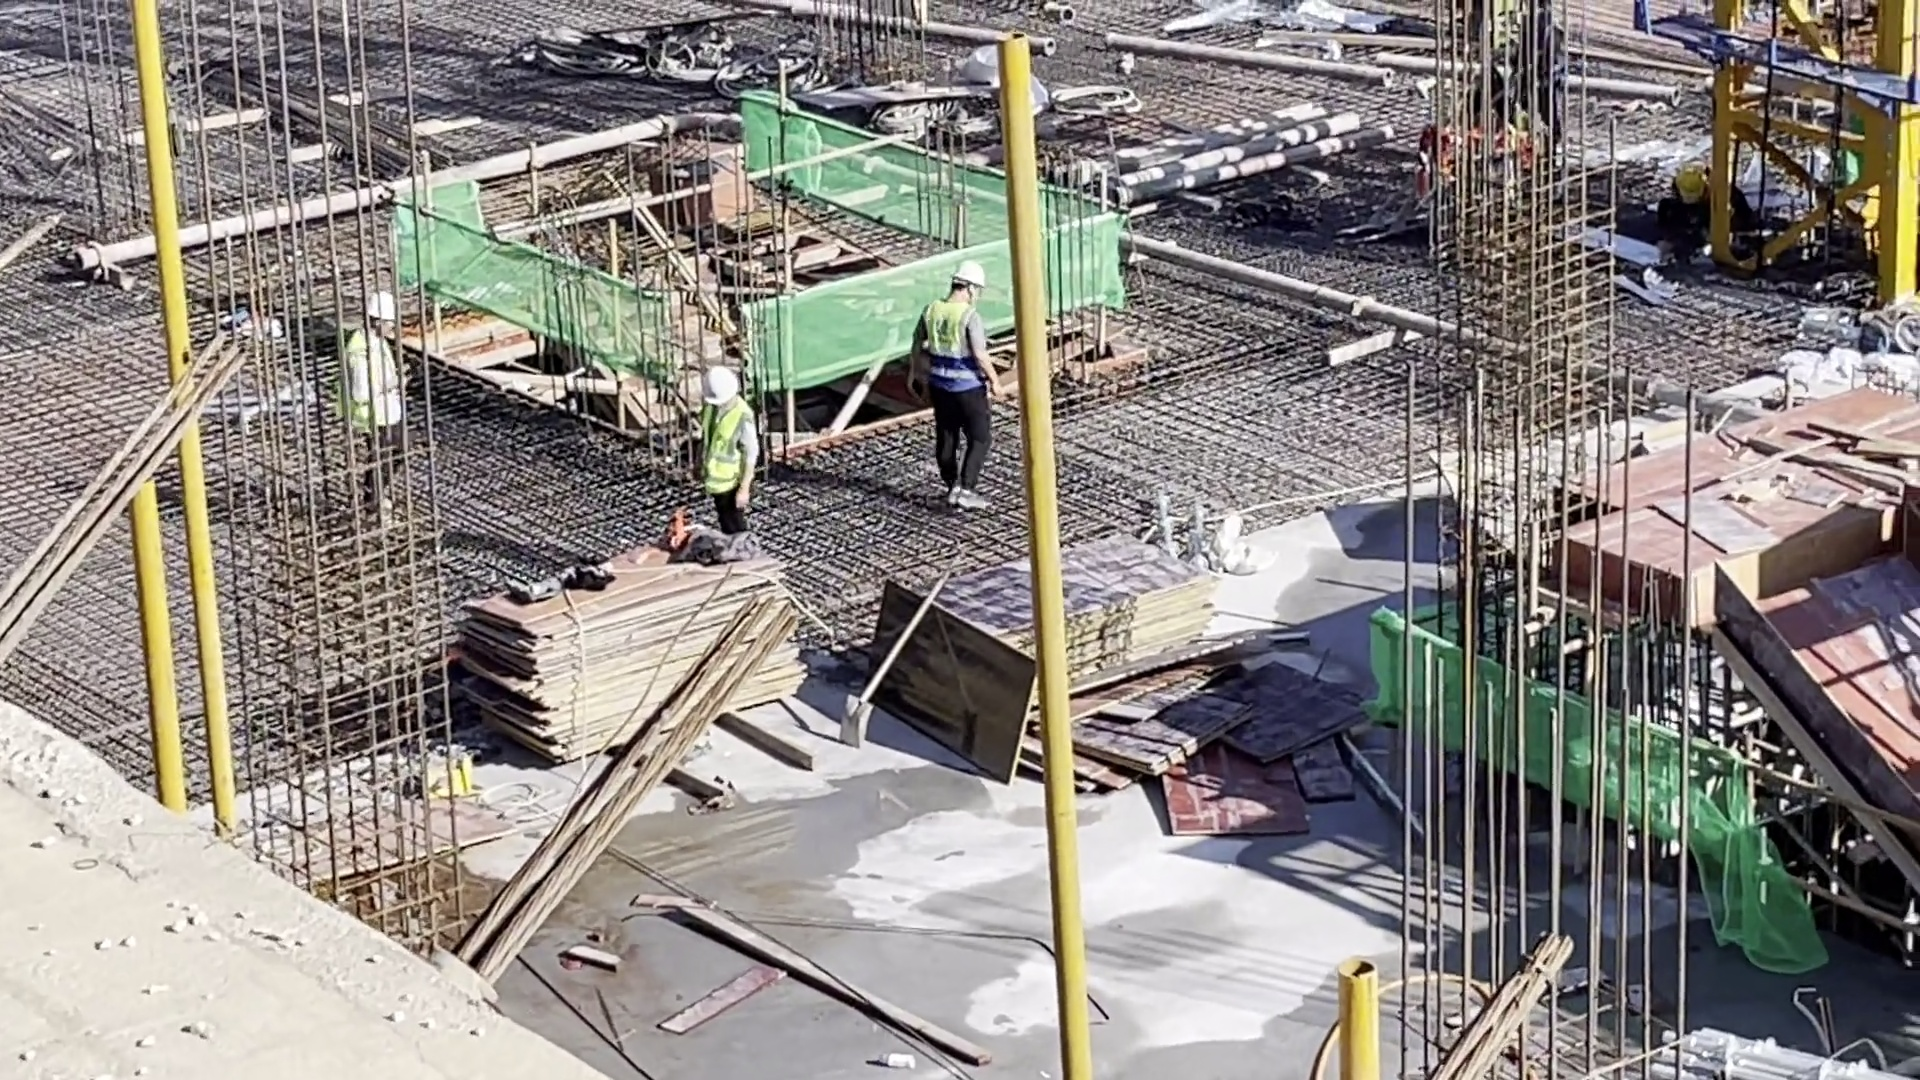helmet: (363, 288, 409, 324), (709, 364, 744, 408), (1676, 161, 1709, 205), (947, 258, 985, 294)
person: (903, 261, 1006, 512), (336, 287, 417, 523), (693, 363, 758, 531), (1656, 160, 1732, 256)
vest: (344, 332, 407, 427), (925, 299, 983, 401), (699, 406, 752, 497)
